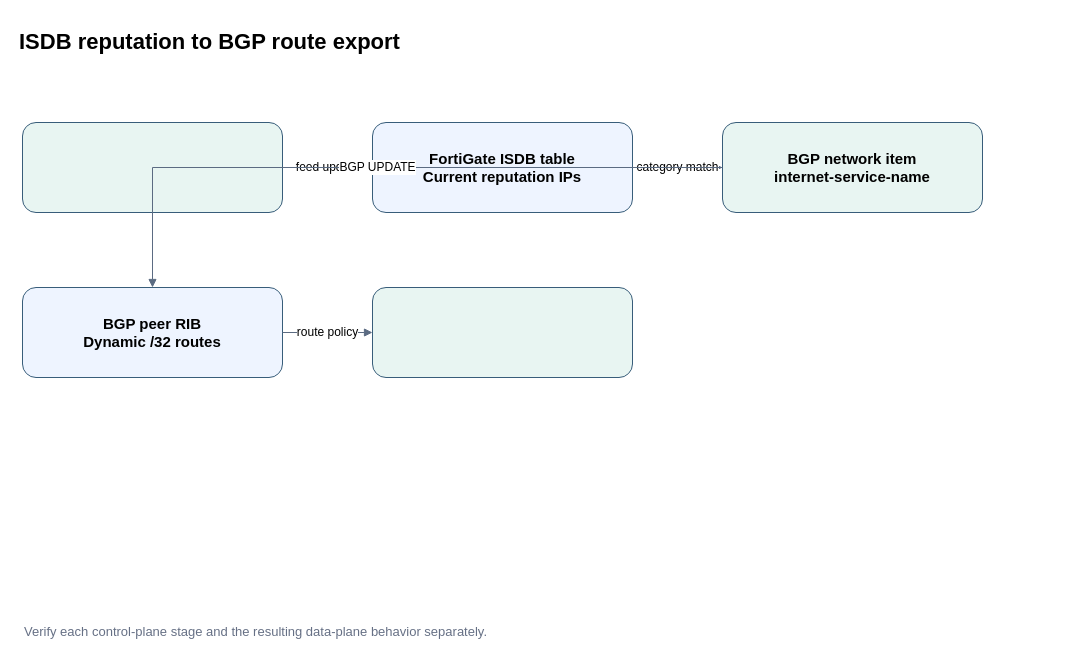
This 1089x664 diagram has some shape labels left out. Here are the shapes that lost their labels. From the top down, the centre of each, then its label:
At point 152,167: "FortiGuard ISDB Botnet / Spam categories".
At point 502,332: "Downstream action Filter / sinkhole / discard".
